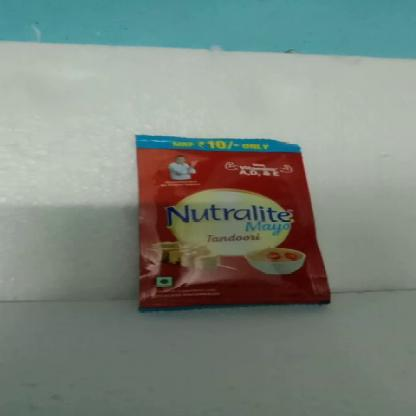Nutralite TANDOORI MAYO 30g: (140, 141, 296, 304)
